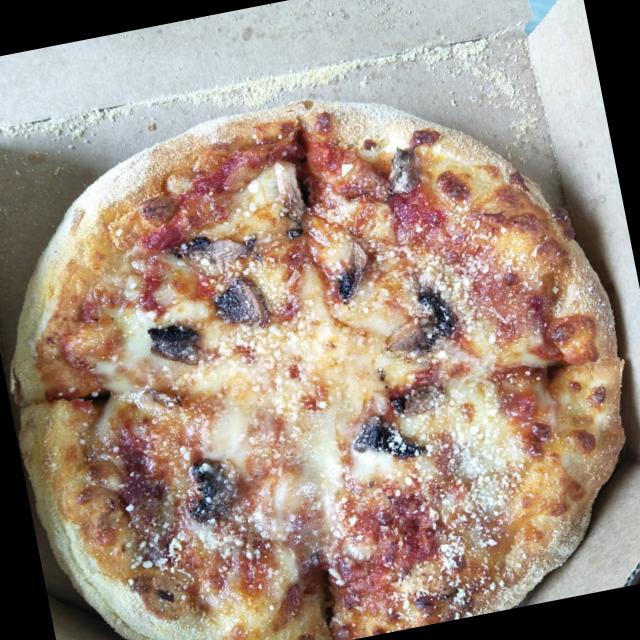mushrooms: (175, 448, 260, 526), (381, 294, 457, 356), (174, 224, 256, 281), (351, 408, 420, 468), (207, 270, 270, 330), (138, 314, 202, 367), (329, 245, 376, 303), (380, 142, 428, 194), (269, 158, 310, 217)
pizza: (10, 100, 628, 640)
